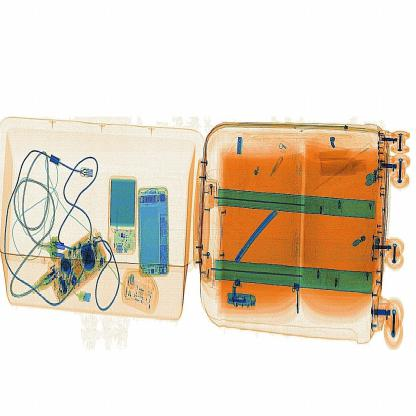pliers: (230, 197, 282, 274)
